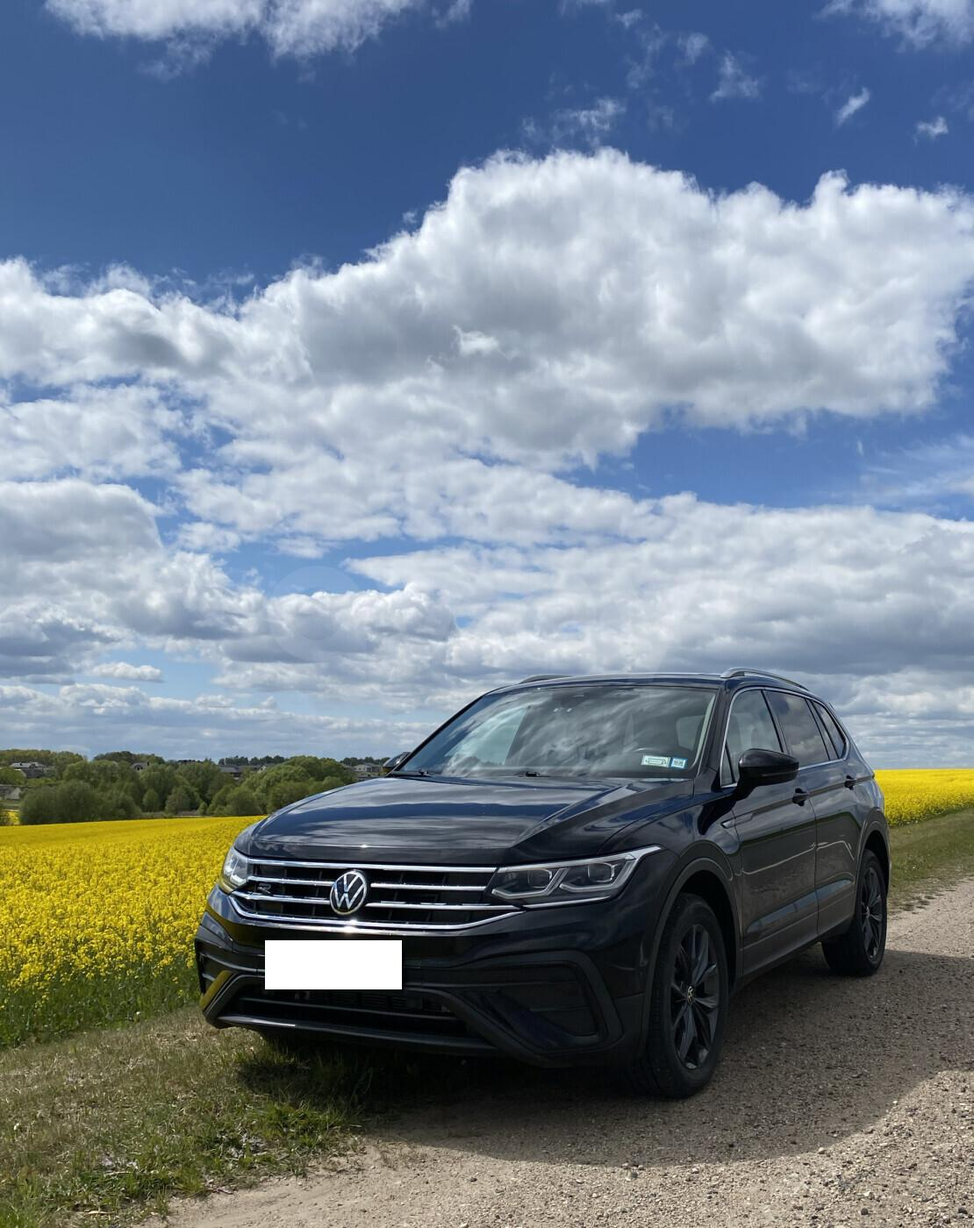Tiguan_2020-2024: (195, 668, 892, 1105)
